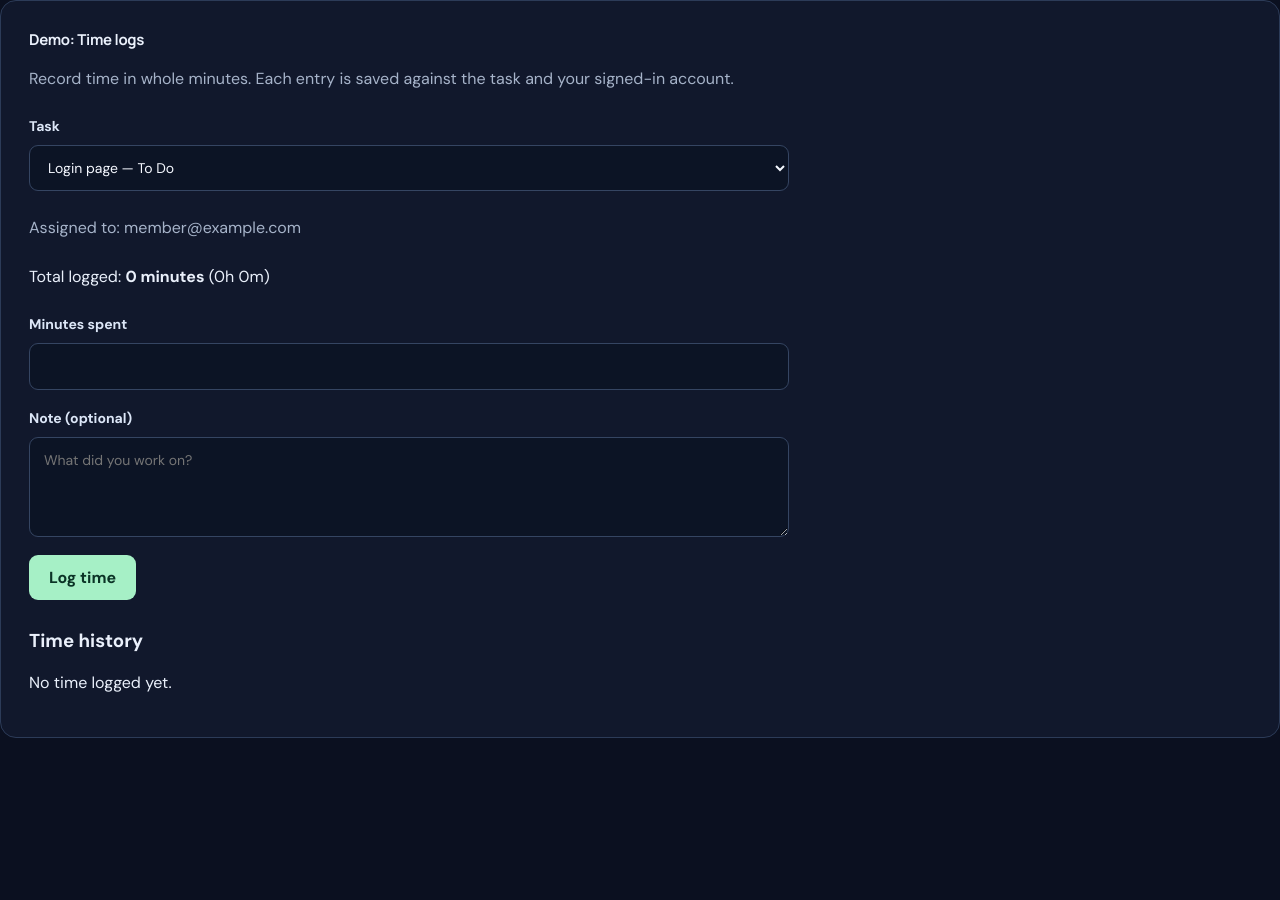
Test: switching tasks clears old draft and uses the new task permissions
Expected: the text "No time logged yet." is shown, [29,672,172,692]
Type "45" into the number field labelled "Minutes spent".
click(409, 366); type("45")  # box [29,343,789,390]
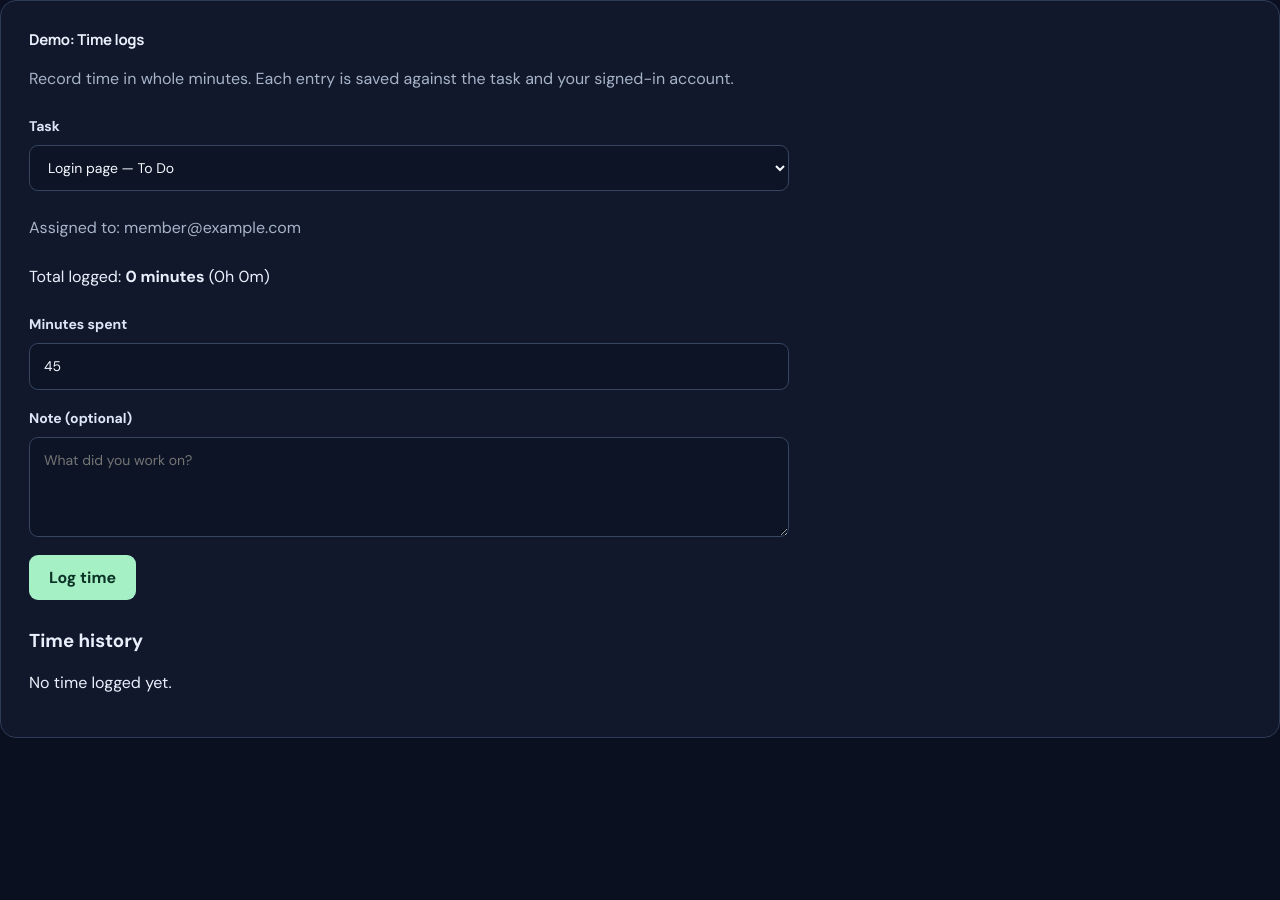
Select "Report — To Do" in the dropdown labelled "Task" at (409, 168), box [29,145,789,191]
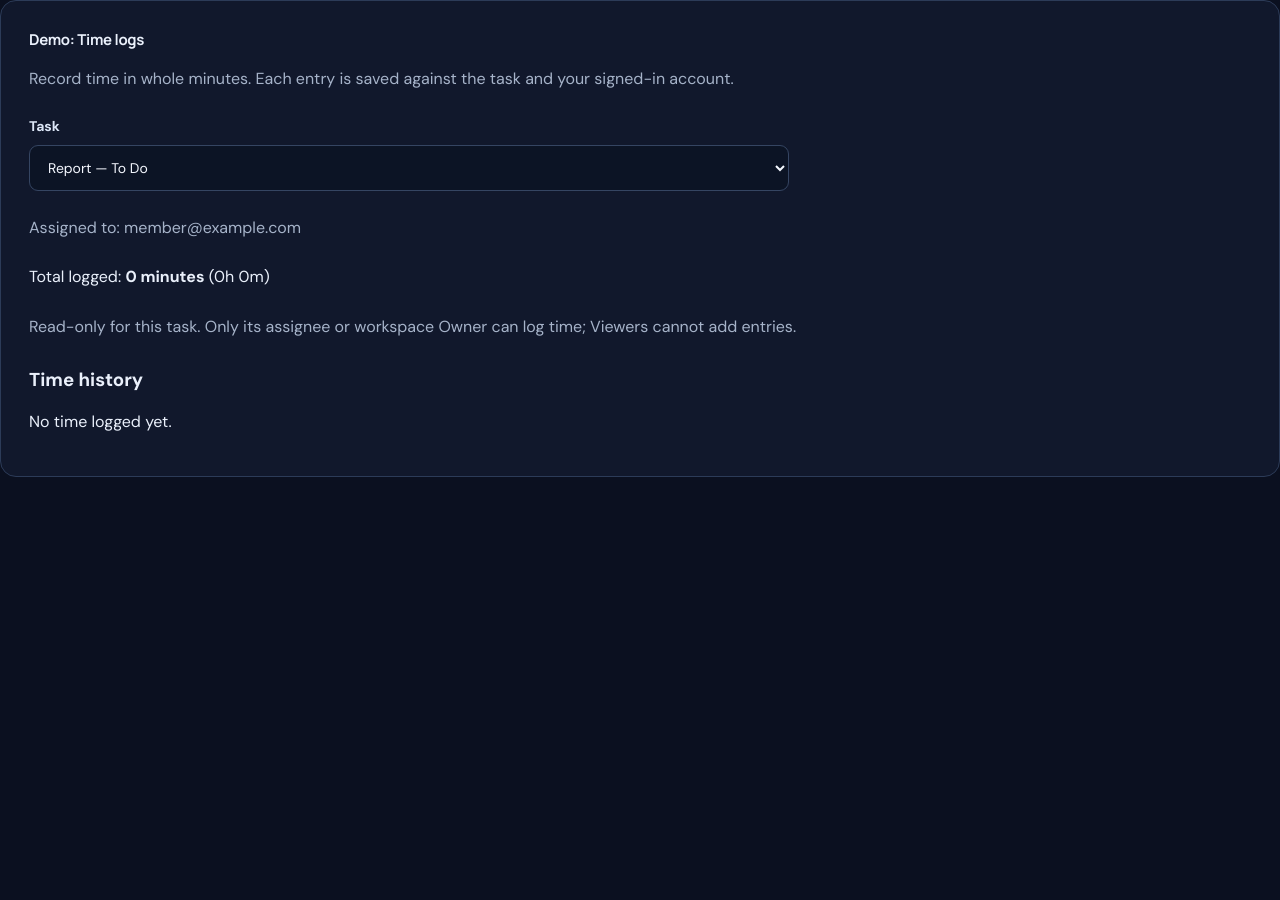
Now the text "Read-only for this task" is shown, box [29,316,796,337]
Now the label labelled "Minutes spent" is gone
